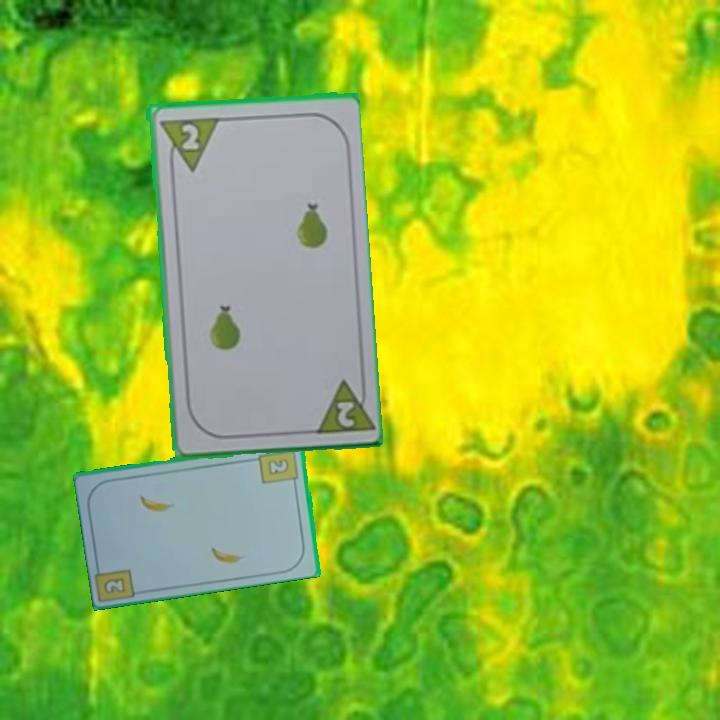2b: (256, 446, 301, 488), (100, 574, 128, 597)
2p: (308, 373, 373, 437), (155, 113, 219, 175)
